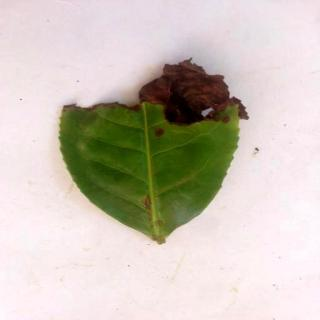Brown Blight: (59, 58, 251, 245)
